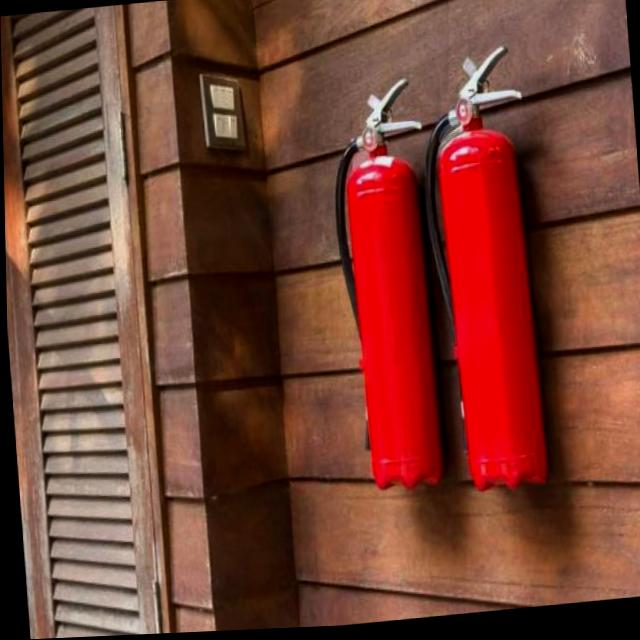FireExtinguisher: (410, 43, 554, 506), (322, 68, 453, 504)
